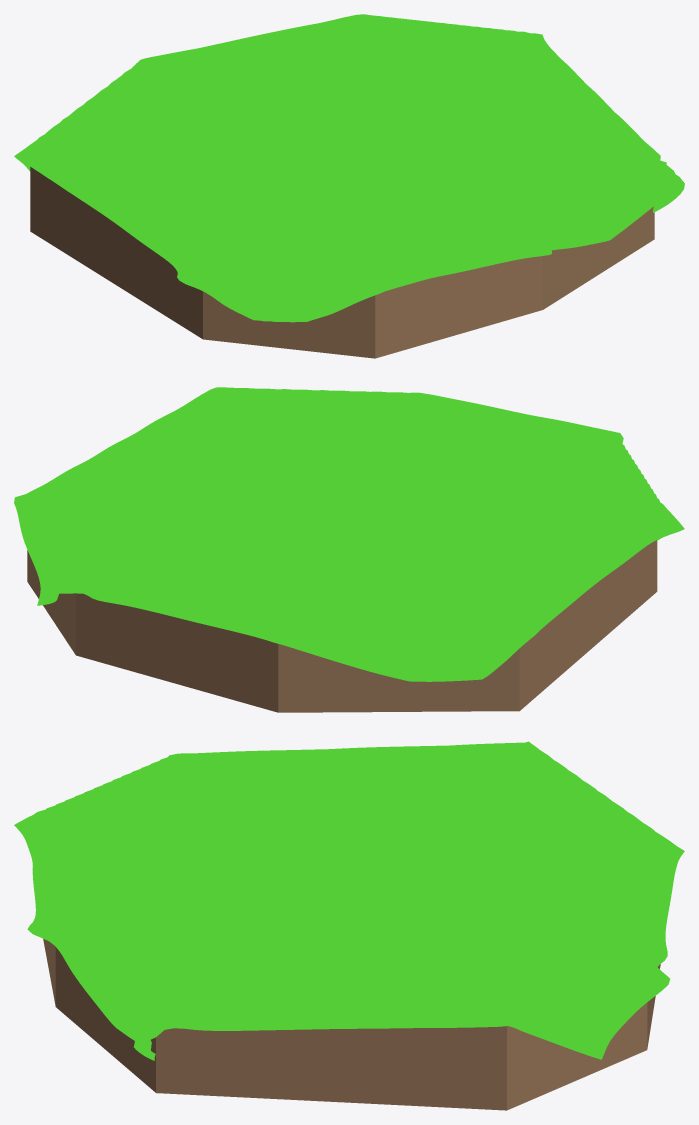
File: SmallFlatBloc01.fbx
3 views of the same model, one above another, from view 1: azimuth 30°, elevation 25°; view 2: azimuth 150°, elevation 25°; view 3: azimuth 270°, elevation 25° (orthographic). The views are drawn at different scales.
Parts seen in each view (by area): view 1: SmallFlatBloc01; view 2: SmallFlatBloc01; view 3: SmallFlatBloc01.
Part boxes in pixels (x1,y1,x2,y2): SmallFlatBloc01: (14,14,684,358); SmallFlatBloc01: (14,387,684,712); SmallFlatBloc01: (14,741,684,1110).
Bounding box in the file's own units: 1252 × 197 × 1239.
